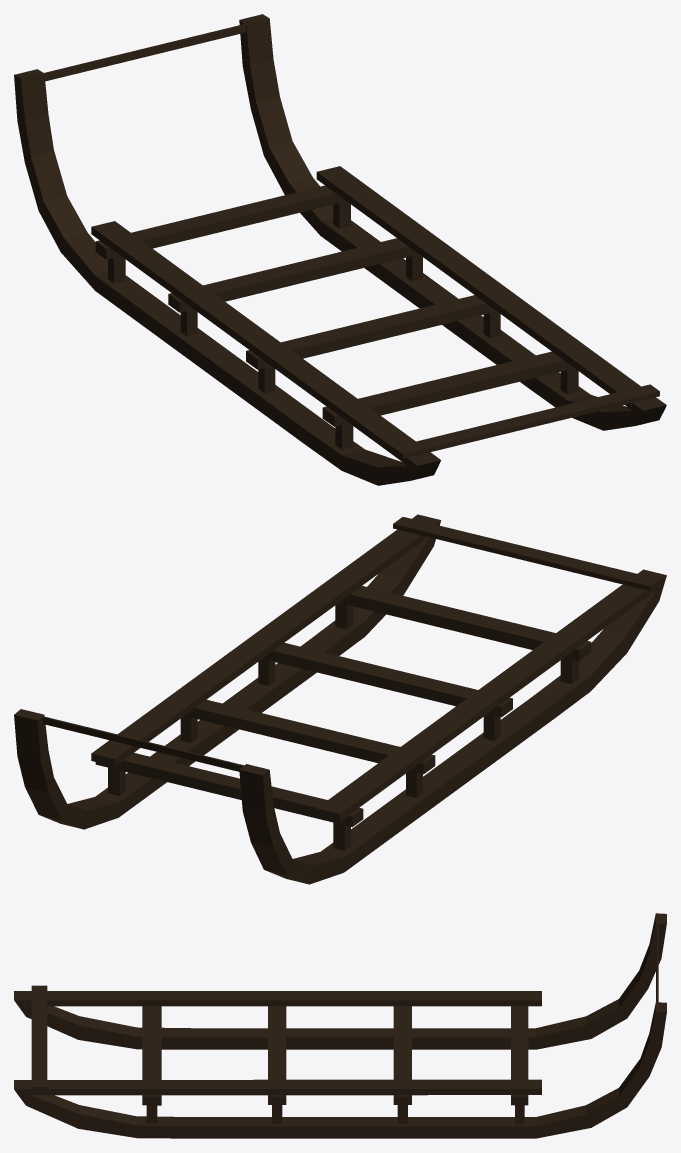
The model's file is transportation_sleigh_Front.fbx.
3 views of the same model, one above another, from view 1: azimuth 30°, elevation 25°; view 2: azimuth 150°, elevation 25°; view 3: azimuth 270°, elevation 25° (orthographic). The views are drawn at different scales.
Visible parts, largest first — view 1: Sleigh Front; view 2: Sleigh Front; view 3: Sleigh Front.
Boxes of the visible parts, bbox=[...] form: Sleigh Front: bbox=[14, 14, 666, 485]; Sleigh Front: bbox=[14, 514, 666, 884]; Sleigh Front: bbox=[14, 913, 666, 1138].
Bounding box in the file's own units: 420 × 246 × 1142.
